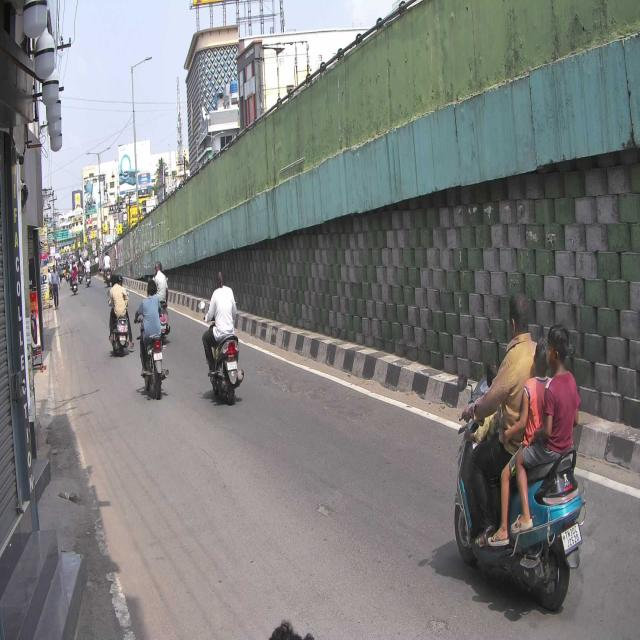single_rider: (199, 267, 245, 406)
triple_rider: (454, 288, 588, 618)
